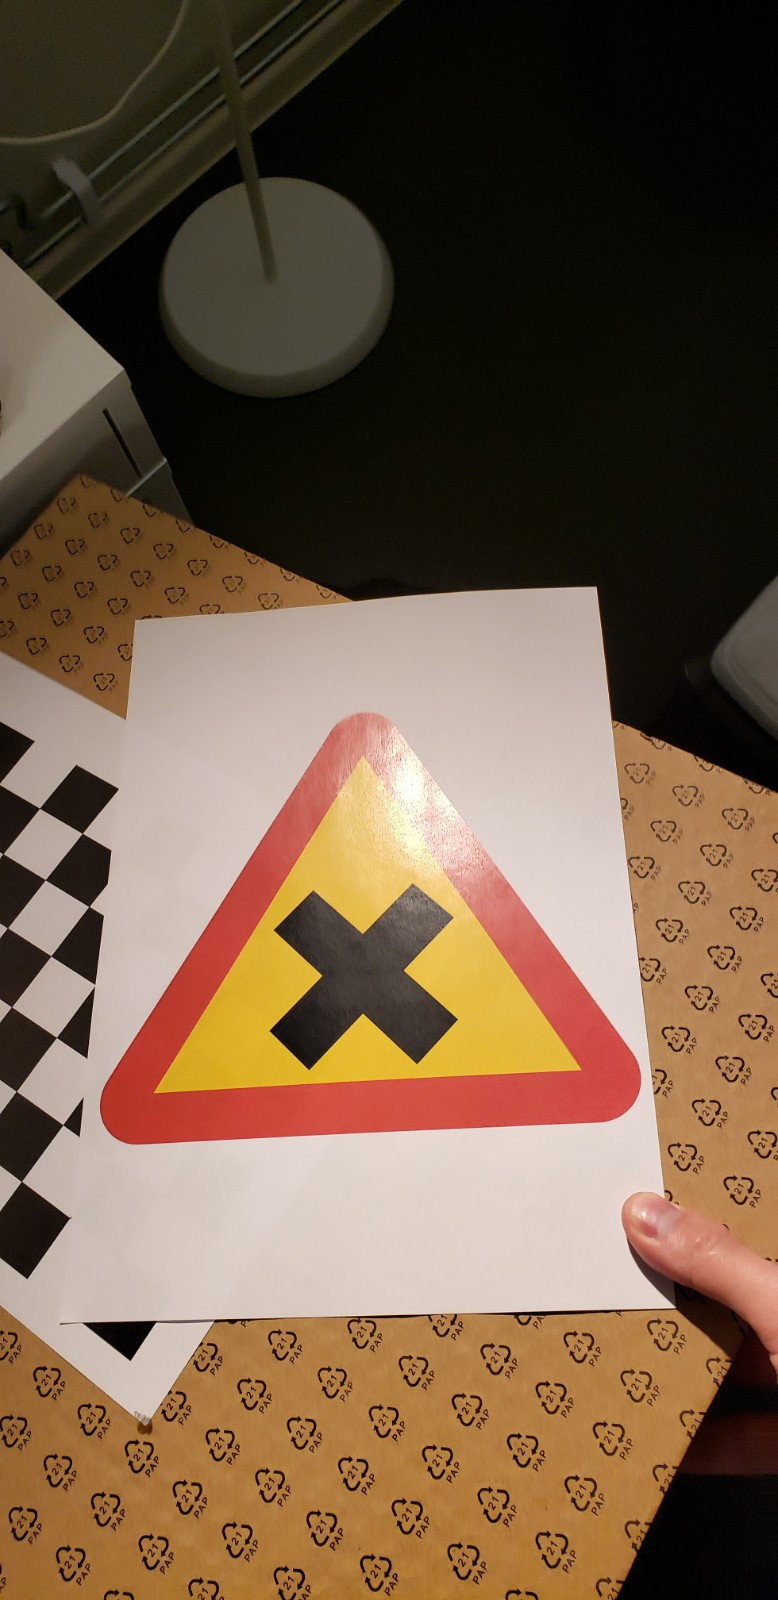junction: (69, 737, 730, 1146)
